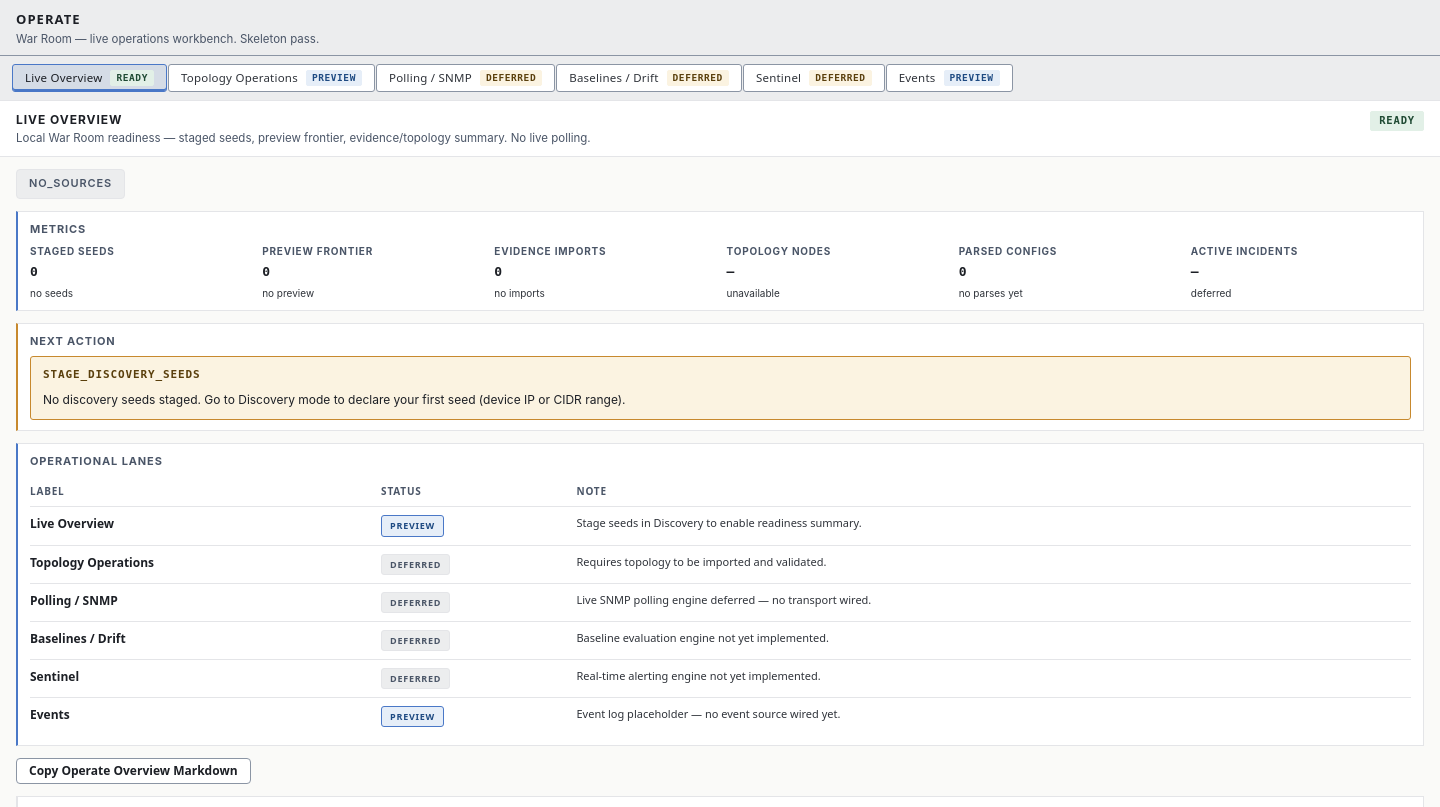
Test: OperateMode workbench › topology_operations renders route hint 'Topology → Graph / Map'
Step 1. Click the tab with test id "mwb-tool-topology_operations" → click(271, 78), box 168,64 -> 375,92
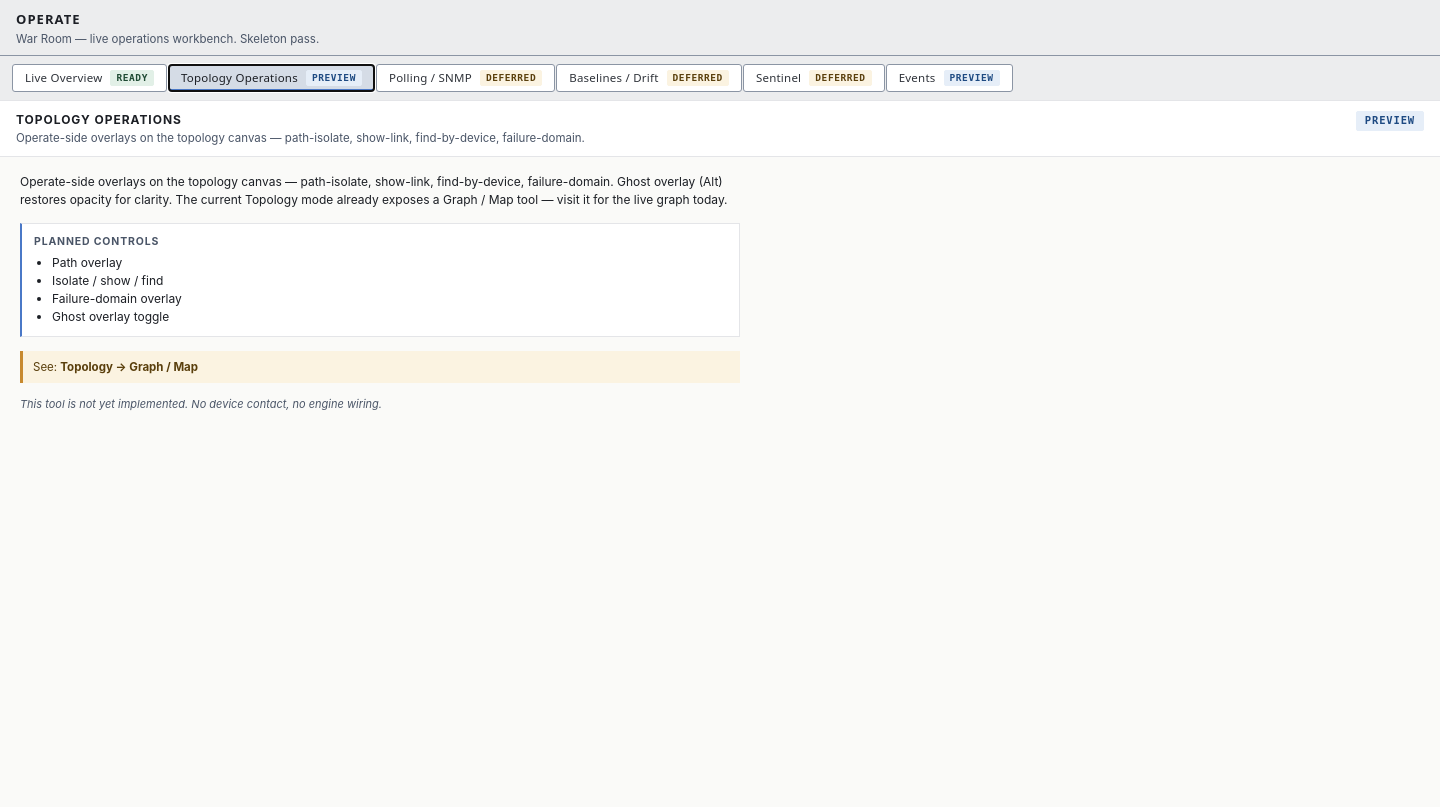
expect the element with test id "mode-workbench-body" shows "Topology → Graph / Map": met, box 60,360 -> 198,374
